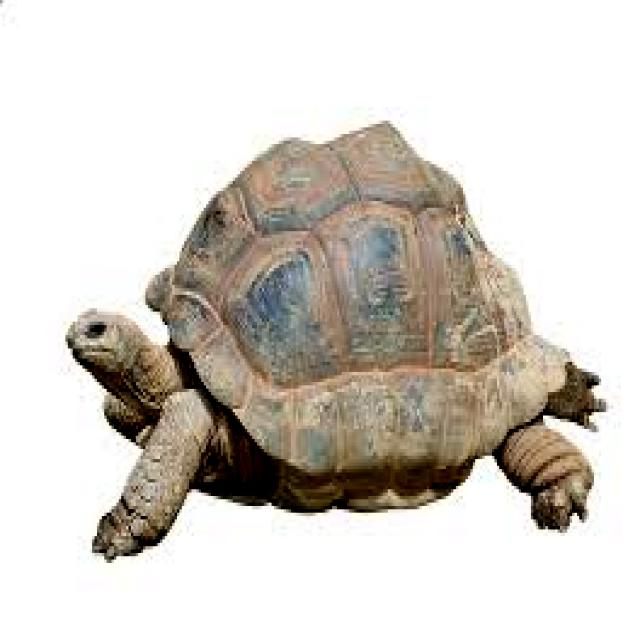Sea turtle: (53, 114, 613, 574)
